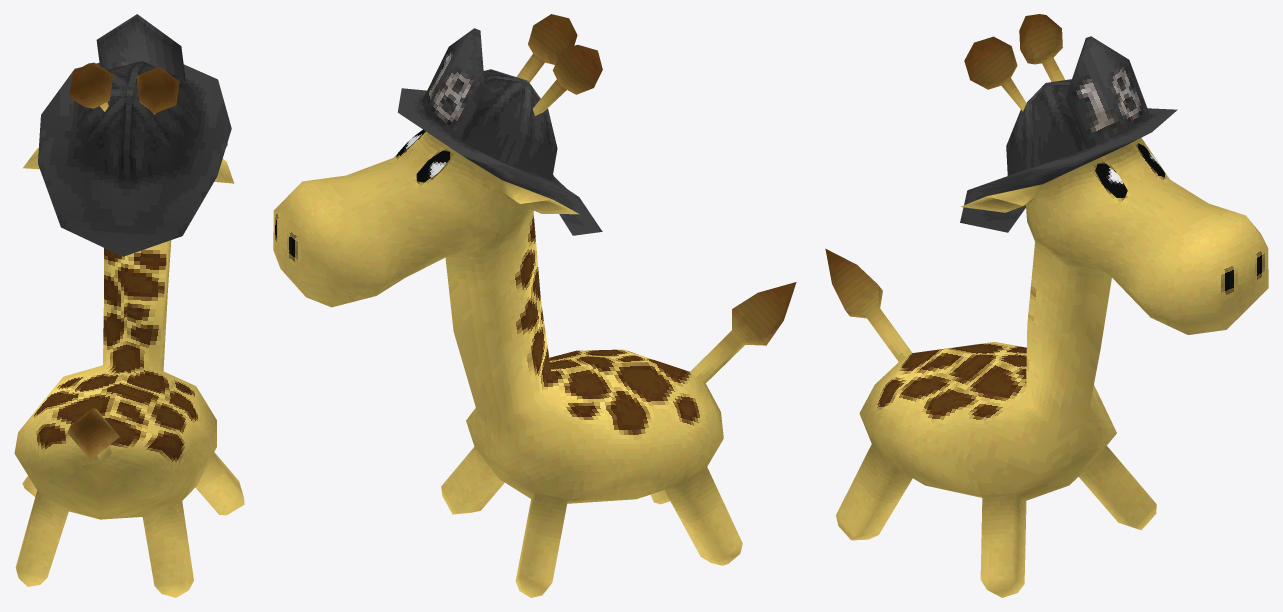
The model's file is ps2_save-icons_firefighterfd18.glb.
3 renders of one model, left to right at view 1: azimuth 30°, elevation 25°; view 2: azimuth 150°, elevation 25°; view 3: azimuth 270°, elevation 25°, orthographic. The views are drawn at different scales.
Parts seen in each view (by area): view 1: icon_1; view 2: icon_1; view 3: icon_1.
Boxes of the visible parts, bbox=[...] form: icon_1: bbox=[14, 14, 244, 597]; icon_1: bbox=[273, 14, 796, 597]; icon_1: bbox=[825, 14, 1268, 597].
Size of the model in its own units: 3.11 by 4.71 by 3.5.
1 material, 1 textured.
